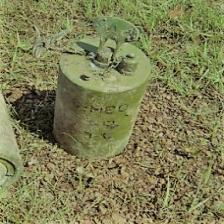OZM-72: (54, 24, 145, 160)
